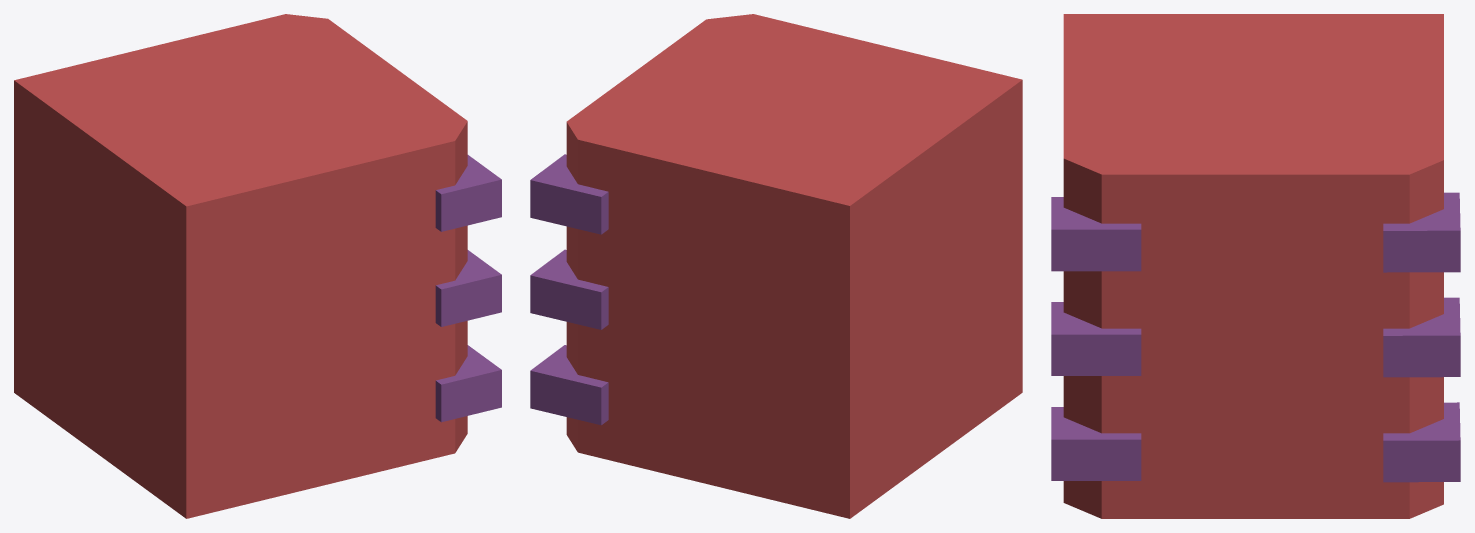
The model's file is Left Connect Pink Purple.fbx.
The picture shows the model from 3 angles, left to right: view 1: azimuth 30°, elevation 25°; view 2: azimuth 150°, elevation 25°; view 3: azimuth 270°, elevation 25°; orthographic projection. The views are drawn at different scales.
Visible parts, largest first — view 1: pCube10; view 2: pCube10; view 3: pCube10.
Boxes of the visible parts, x1,y1,x2,y2 form: pCube10: [14, 14, 501, 518]; pCube10: [530, 14, 1022, 518]; pCube10: [1051, 14, 1460, 518].
Size of the model in its own units: 2.09 by 2 by 2.15.
